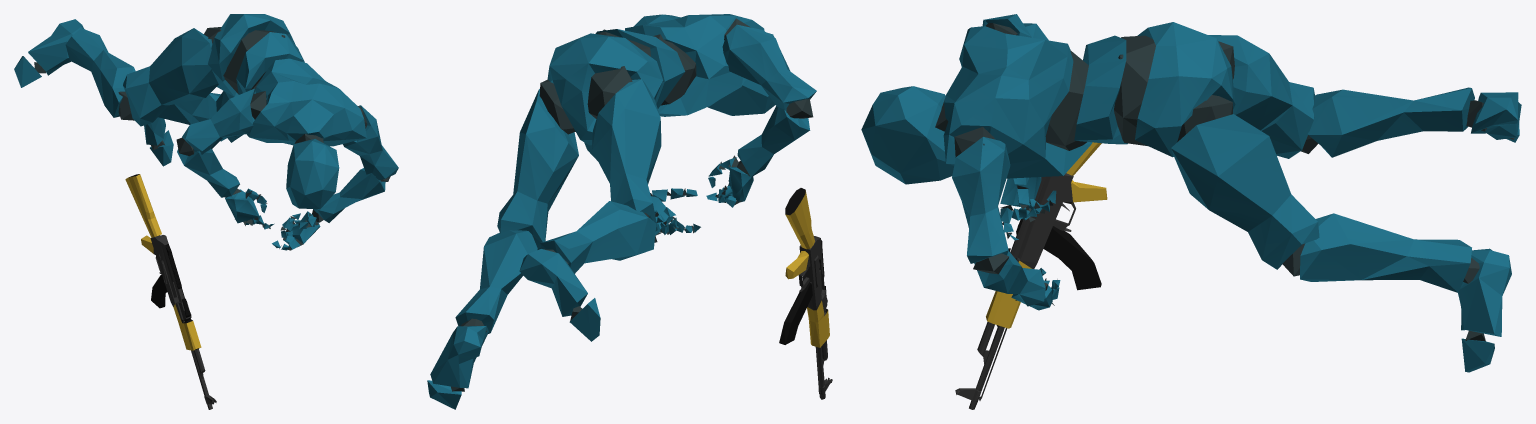
Rendered from EnemyDying_000038.obj.
The picture shows the model from 3 angles, left to right: view 1: azimuth 30°, elevation 25°; view 2: azimuth 150°, elevation 25°; view 3: azimuth 270°, elevation 25°; orthographic projection. The views are drawn at different scales.
Parts seen in each view (by area): view 1: Alpha_Surface, AK-47_Cube, Alpha_Joints; view 2: Alpha_Surface, AK-47_Cube, Alpha_Joints; view 3: Alpha_Surface, Alpha_Joints, AK-47_Cube.
Part boxes in pixels (x1,y1,x2,y2): Alpha_Surface: (14, 14, 398, 250); AK-47_Cube: (125, 174, 216, 409); Alpha_Joints: (34, 27, 390, 250); Alpha_Surface: (427, 14, 816, 409); AK-47_Cube: (779, 188, 832, 399); Alpha_Joints: (450, 18, 813, 391); Alpha_Surface: (861, 14, 1521, 372); Alpha_Joints: (935, 23, 1514, 341); AK-47_Cube: (955, 142, 1107, 409).
Size of the model in its own units: 174 by 237 by 307.
